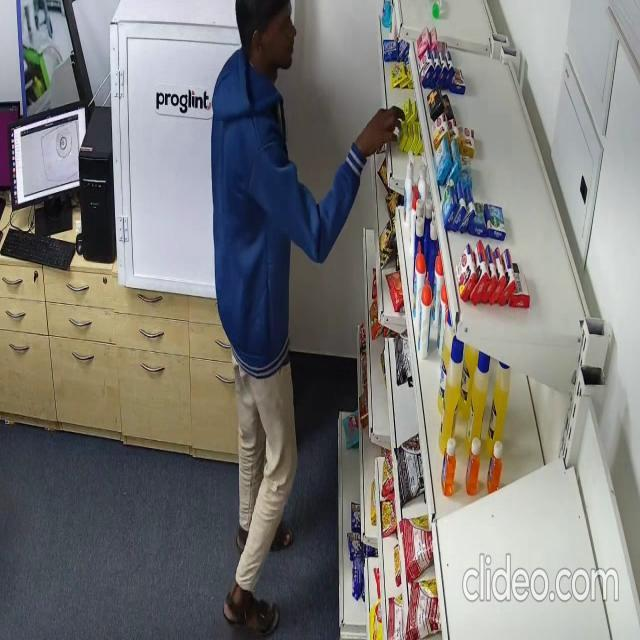normal: (207, 0, 400, 640)
